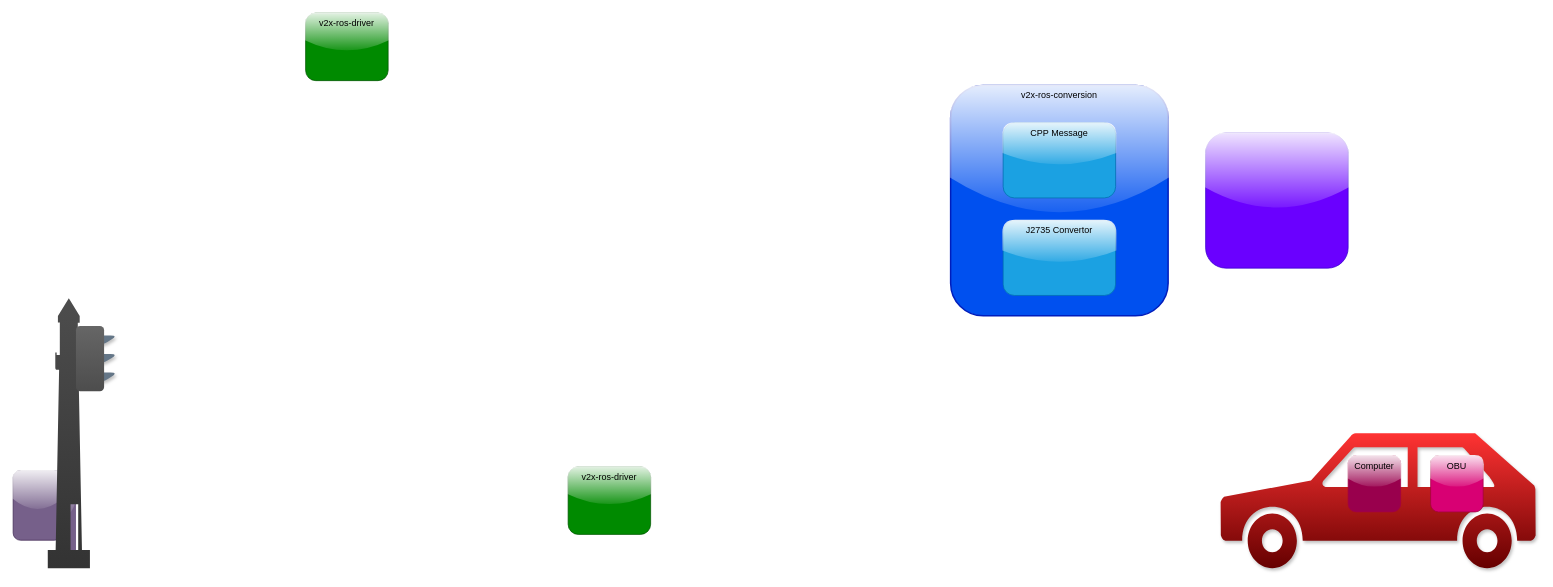
This 1553x587 diagram has some shape labels left out. The shapes that lost their labels are listed below. From the top down, each one's centre as x and y in pixels, then its label:
At point (1276, 200): "CARMA Platform".
At point (37, 505): "RSU".
